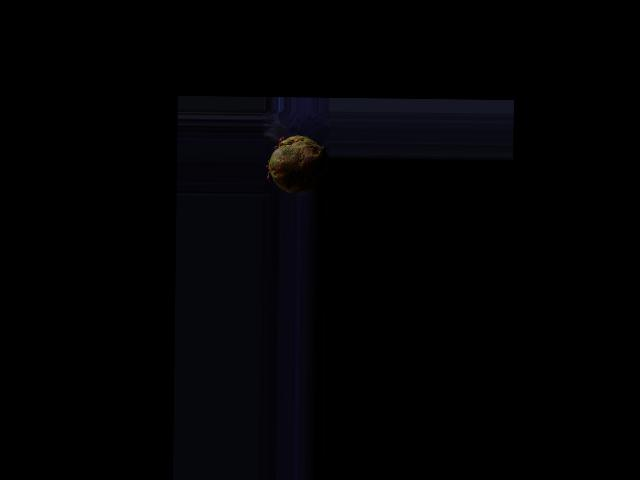beet: (266, 134, 328, 193)
